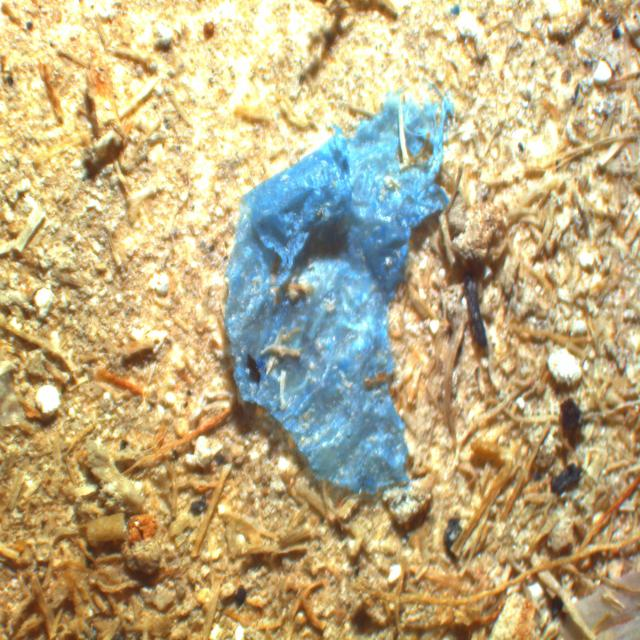microplastic: (222, 86, 458, 495)
